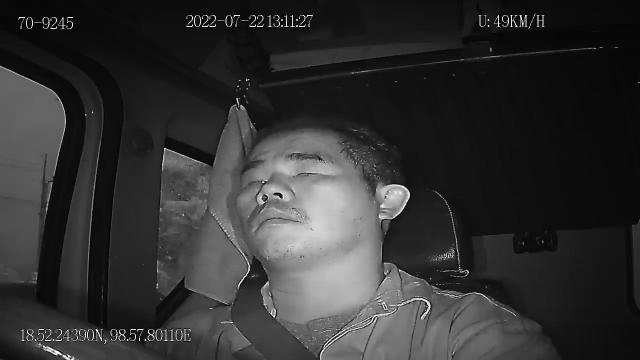Seatbelt: (229, 286, 321, 360)
